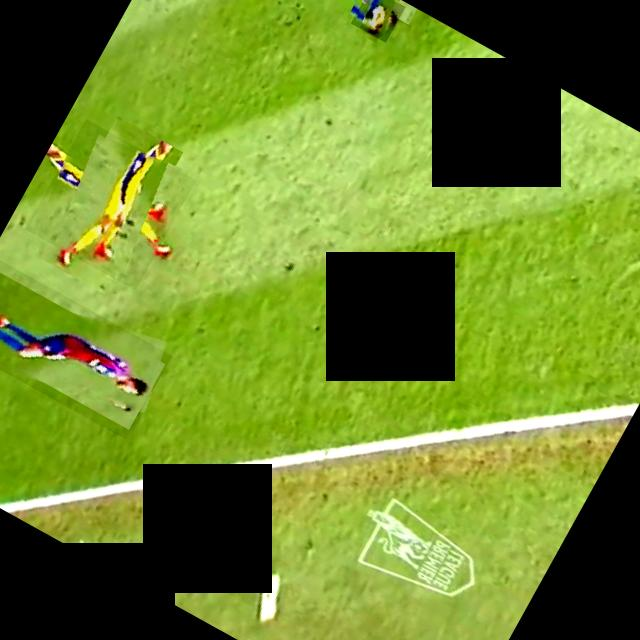ball: (351, 0, 406, 42)
soccer-player: (0, 254, 172, 439), (25, 118, 196, 290), (214, 0, 417, 26)
